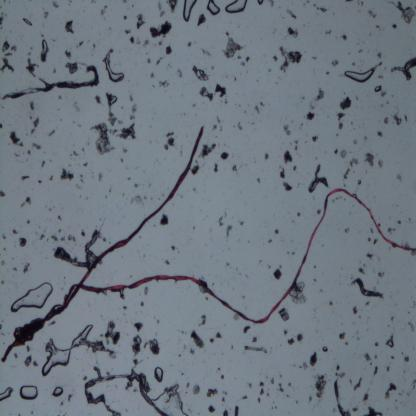Air bubble: (40, 324, 92, 378), (10, 282, 52, 314), (157, 380, 187, 416), (105, 54, 126, 83), (344, 67, 376, 84), (223, 0, 248, 14), (182, 0, 197, 23), (19, 385, 39, 400), (206, 1, 221, 18), (0, 386, 13, 402), (154, 366, 165, 383), (40, 38, 50, 53), (53, 385, 64, 398), (386, 338, 394, 348), (374, 84, 382, 92), (256, 0, 266, 6), (111, 95, 117, 105), (322, 346, 328, 352), (358, 180, 362, 186), (375, 341, 379, 346)
Background material: (90, 121, 115, 155), (84, 339, 118, 360), (279, 44, 302, 73), (223, 32, 243, 59), (291, 281, 310, 306), (397, 0, 416, 24), (103, 318, 120, 344), (149, 21, 172, 40), (115, 122, 136, 141), (106, 92, 118, 125), (314, 372, 327, 399), (0, 56, 17, 74), (144, 338, 161, 356), (193, 63, 209, 82), (189, 330, 204, 350), (198, 143, 216, 159), (243, 344, 268, 355), (163, 130, 176, 151), (26, 56, 37, 78), (132, 335, 143, 357), (60, 168, 76, 182), (10, 131, 24, 147), (63, 18, 76, 35), (363, 405, 383, 416), (200, 87, 215, 101), (385, 382, 396, 400), (364, 152, 376, 168), (339, 96, 352, 110), (66, 61, 78, 76), (308, 349, 318, 367), (30, 116, 40, 134), (215, 83, 227, 98), (136, 12, 146, 30), (273, 263, 283, 280), (278, 307, 290, 321), (315, 88, 327, 102), (130, 195, 145, 206), (312, 3, 328, 13), (20, 195, 33, 207), (286, 26, 299, 38), (353, 377, 363, 392), (284, 150, 294, 165), (305, 110, 317, 122), (285, 8, 297, 20), (206, 387, 218, 399), (214, 116, 223, 132), (167, 0, 178, 13), (158, 1, 166, 18), (393, 112, 402, 127), (132, 321, 144, 332), (160, 214, 170, 227), (22, 261, 31, 275), (348, 157, 359, 168), (18, 236, 28, 248), (200, 47, 212, 57), (30, 142, 42, 152), (282, 182, 294, 192), (0, 11, 7, 28), (225, 224, 233, 238), (198, 13, 206, 27), (132, 358, 144, 367), (368, 8, 377, 20), (191, 164, 200, 176), (100, 4, 108, 17), (408, 320, 416, 333), (298, 360, 308, 370), (207, 404, 217, 414), (395, 172, 404, 183), (2, 41, 10, 53), (24, 355, 32, 367), (165, 44, 173, 56), (337, 111, 346, 121), (330, 58, 340, 67), (387, 226, 397, 235), (372, 365, 380, 376), (192, 384, 200, 395), (362, 391, 370, 402), (296, 332, 304, 343), (376, 271, 387, 279), (73, 101, 81, 112), (65, 49, 72, 61), (285, 124, 292, 136), (344, 166, 350, 180), (199, 314, 206, 326), (68, 234, 77, 243), (338, 330, 346, 340), (364, 353, 372, 363), (159, 80, 169, 88), (286, 337, 296, 345), (23, 18, 33, 26), (95, 95, 103, 105), (280, 166, 286, 179), (335, 372, 346, 379), (218, 215, 225, 226), (52, 1, 61, 9), (365, 252, 374, 260), (50, 235, 59, 243), (10, 44, 19, 52), (242, 326, 251, 334), (358, 267, 366, 276), (410, 380, 416, 392), (376, 129, 384, 138), (209, 336, 217, 345), (340, 148, 347, 158), (20, 174, 30, 181), (131, 103, 137, 114), (278, 382, 284, 393), (76, 40, 84, 48), (176, 70, 184, 78), (38, 233, 46, 241), (47, 129, 55, 137), (163, 258, 171, 266), (340, 34, 348, 42), (350, 406, 359, 413), (325, 28, 332, 37), (109, 128, 118, 135), (70, 151, 80, 157), (235, 122, 242, 130), (403, 356, 410, 364), (267, 0, 275, 7), (32, 360, 40, 367), (221, 152, 228, 160), (30, 100, 35, 111), (234, 405, 239, 416), (255, 104, 260, 115), (98, 171, 103, 182), (48, 320, 57, 326), (384, 116, 390, 125), (338, 121, 344, 130), (80, 228, 86, 237), (378, 159, 384, 168), (142, 39, 151, 45), (232, 164, 237, 174), (157, 56, 162, 66), (213, 163, 218, 173), (251, 336, 258, 343), (344, 226, 351, 233), (357, 0, 364, 7), (12, 228, 19, 235), (237, 219, 244, 226), (392, 22, 398, 30), (372, 238, 378, 246), (188, 346, 194, 354), (57, 214, 63, 222), (146, 57, 152, 65), (122, 146, 128, 154), (380, 90, 386, 98), (264, 152, 270, 160), (40, 160, 46, 168), (129, 36, 135, 44), (256, 176, 262, 184), (26, 344, 31, 353), (294, 140, 298, 151), (80, 173, 84, 184), (43, 11, 49, 18), (83, 161, 89, 168), (215, 332, 221, 339), (365, 300, 371, 307), (60, 235, 66, 242), (378, 74, 385, 80), (312, 135, 318, 142), (0, 190, 6, 197), (242, 394, 248, 401), (411, 300, 416, 308), (390, 314, 394, 324), (68, 392, 72, 402), (353, 307, 358, 315), (386, 364, 391, 372), (270, 377, 275, 385), (221, 396, 226, 404), (130, 113, 135, 121), (308, 394, 313, 402), (144, 286, 148, 296), (223, 408, 228, 416), (370, 226, 374, 235), (225, 262, 231, 268), (260, 101, 266, 107), (325, 70, 331, 76), (375, 24, 381, 30), (170, 246, 176, 252), (302, 0, 308, 6), (240, 61, 246, 67), (37, 180, 43, 186), (49, 175, 54, 182), (367, 236, 372, 243), (52, 68, 57, 75), (291, 250, 296, 257), (27, 149, 32, 156), (187, 41, 192, 48), (245, 56, 250, 63), (259, 388, 264, 395), (336, 363, 340, 371), (136, 37, 140, 45), (288, 380, 292, 388), (5, 53, 13, 57), (92, 41, 96, 49), (284, 328, 288, 336), (404, 114, 408, 122), (378, 50, 382, 58), (318, 208, 322, 216), (1, 260, 6, 266), (125, 28, 130, 34), (57, 227, 62, 233), (13, 266, 18, 272), (273, 56, 278, 62), (247, 382, 252, 388), (151, 72, 156, 78), (134, 184, 140, 189), (312, 56, 318, 61), (352, 140, 358, 145), (267, 238, 273, 243), (83, 375, 88, 381), (58, 401, 64, 406), (352, 61, 356, 68), (130, 95, 134, 102), (158, 39, 162, 46), (2, 233, 6, 240), (14, 352, 18, 359), (117, 120, 124, 124), (260, 382, 265, 387), (27, 219, 31, 225), (344, 340, 348, 346), (364, 135, 368, 141), (398, 220, 402, 226), (1, 280, 5, 286), (186, 382, 190, 388), (358, 49, 364, 53), (102, 237, 106, 243), (120, 157, 124, 163), (14, 153, 20, 157), (297, 212, 301, 218), (266, 392, 270, 398), (124, 14, 127, 21), (121, 0, 128, 3), (258, 397, 261, 404), (391, 355, 395, 360), (274, 229, 278, 234), (293, 166, 298, 170), (221, 374, 224, 380), (313, 279, 317, 283), (346, 0, 354, 2), (296, 399, 299, 404), (329, 301, 332, 306), (141, 301, 144, 306), (0, 322, 2, 329), (0, 124, 3, 128), (128, 177, 131, 181), (335, 150, 338, 154), (314, 264, 316, 269), (29, 117, 32, 120)
Cellulose filter fibre: (83, 370, 169, 415), (0, 63, 100, 101), (56, 226, 102, 267), (354, 275, 387, 300), (307, 162, 330, 192), (334, 375, 349, 415), (392, 59, 416, 78)
Cotton: (0, 127, 416, 365)
